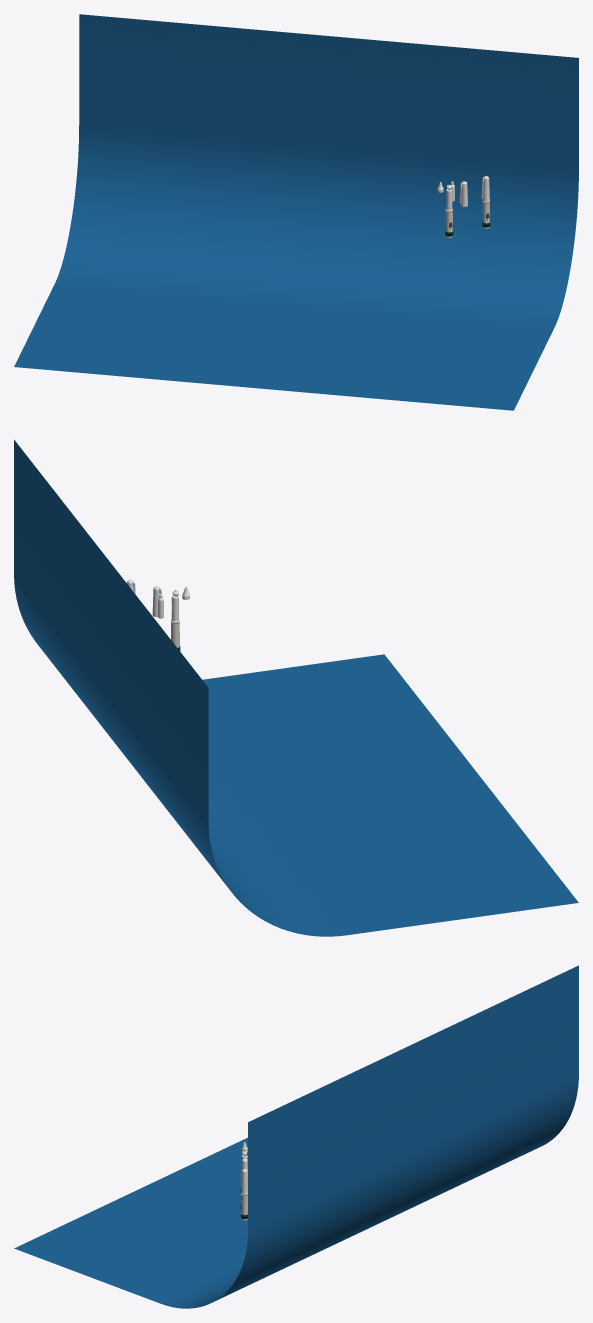
File: uploads_files_2936167_insulin+pens.fbx
The picture shows the model from 3 angles, top to bottom: view 1: azimuth 30°, elevation 25°; view 2: azimuth 150°, elevation 25°; view 3: azimuth 270°, elevation 25°; orthographic projection. The views are drawn at different scales.
Parts seen in each view (by area): view 1: Plane; view 2: Plane; view 3: Plane.
Boxes of the visible parts, bbox=[...] form: Plane: bbox=[14, 14, 578, 410]; Plane: bbox=[14, 439, 578, 936]; Plane: bbox=[14, 965, 578, 1308].
Bounding box in the file's own units: 1841 × 750 × 1793.
